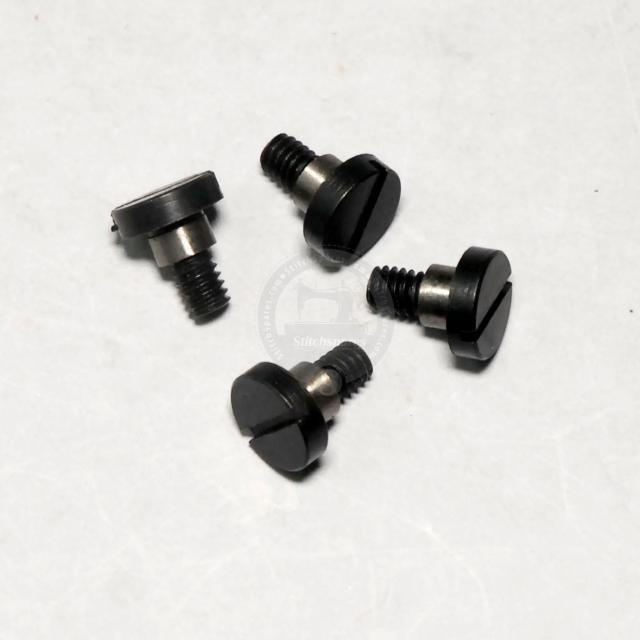duz: (307, 156, 403, 266), (230, 380, 320, 478), (458, 249, 514, 365)
